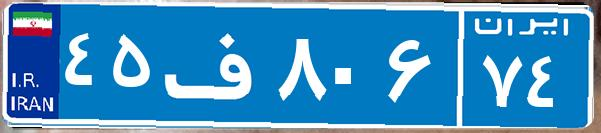0: (330, 28, 385, 110)
4: (57, 26, 110, 107), (525, 38, 570, 115)
5: (110, 28, 158, 105)
6: (385, 28, 445, 110)
7: (475, 38, 525, 113)
8: (273, 28, 330, 110)
ف: (158, 15, 273, 115)
